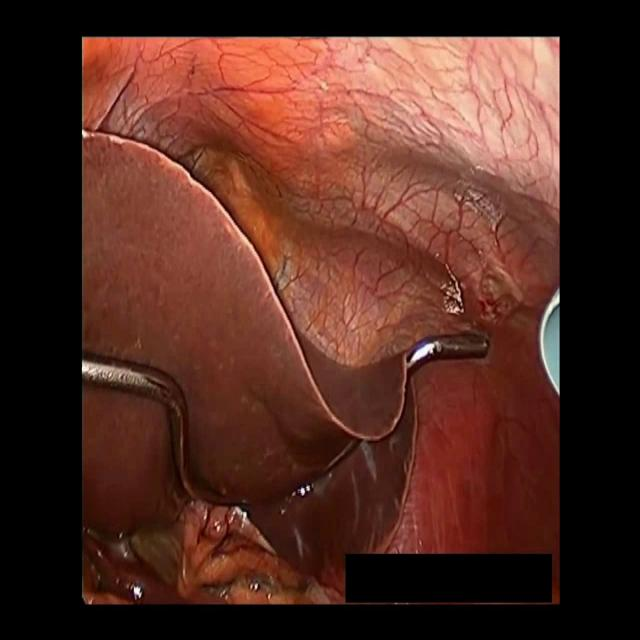surgical-area: (82, 36, 558, 604)
surgical-tool: (82, 351, 226, 507), (407, 332, 489, 377)
